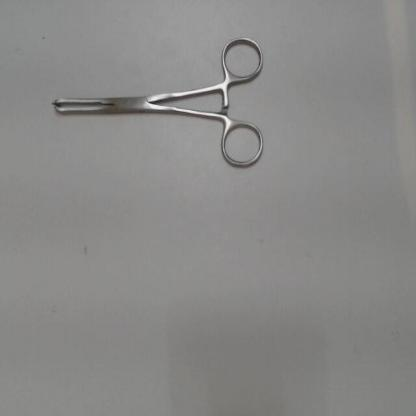Allis Tissue Forceps: (42, 34, 270, 180)
